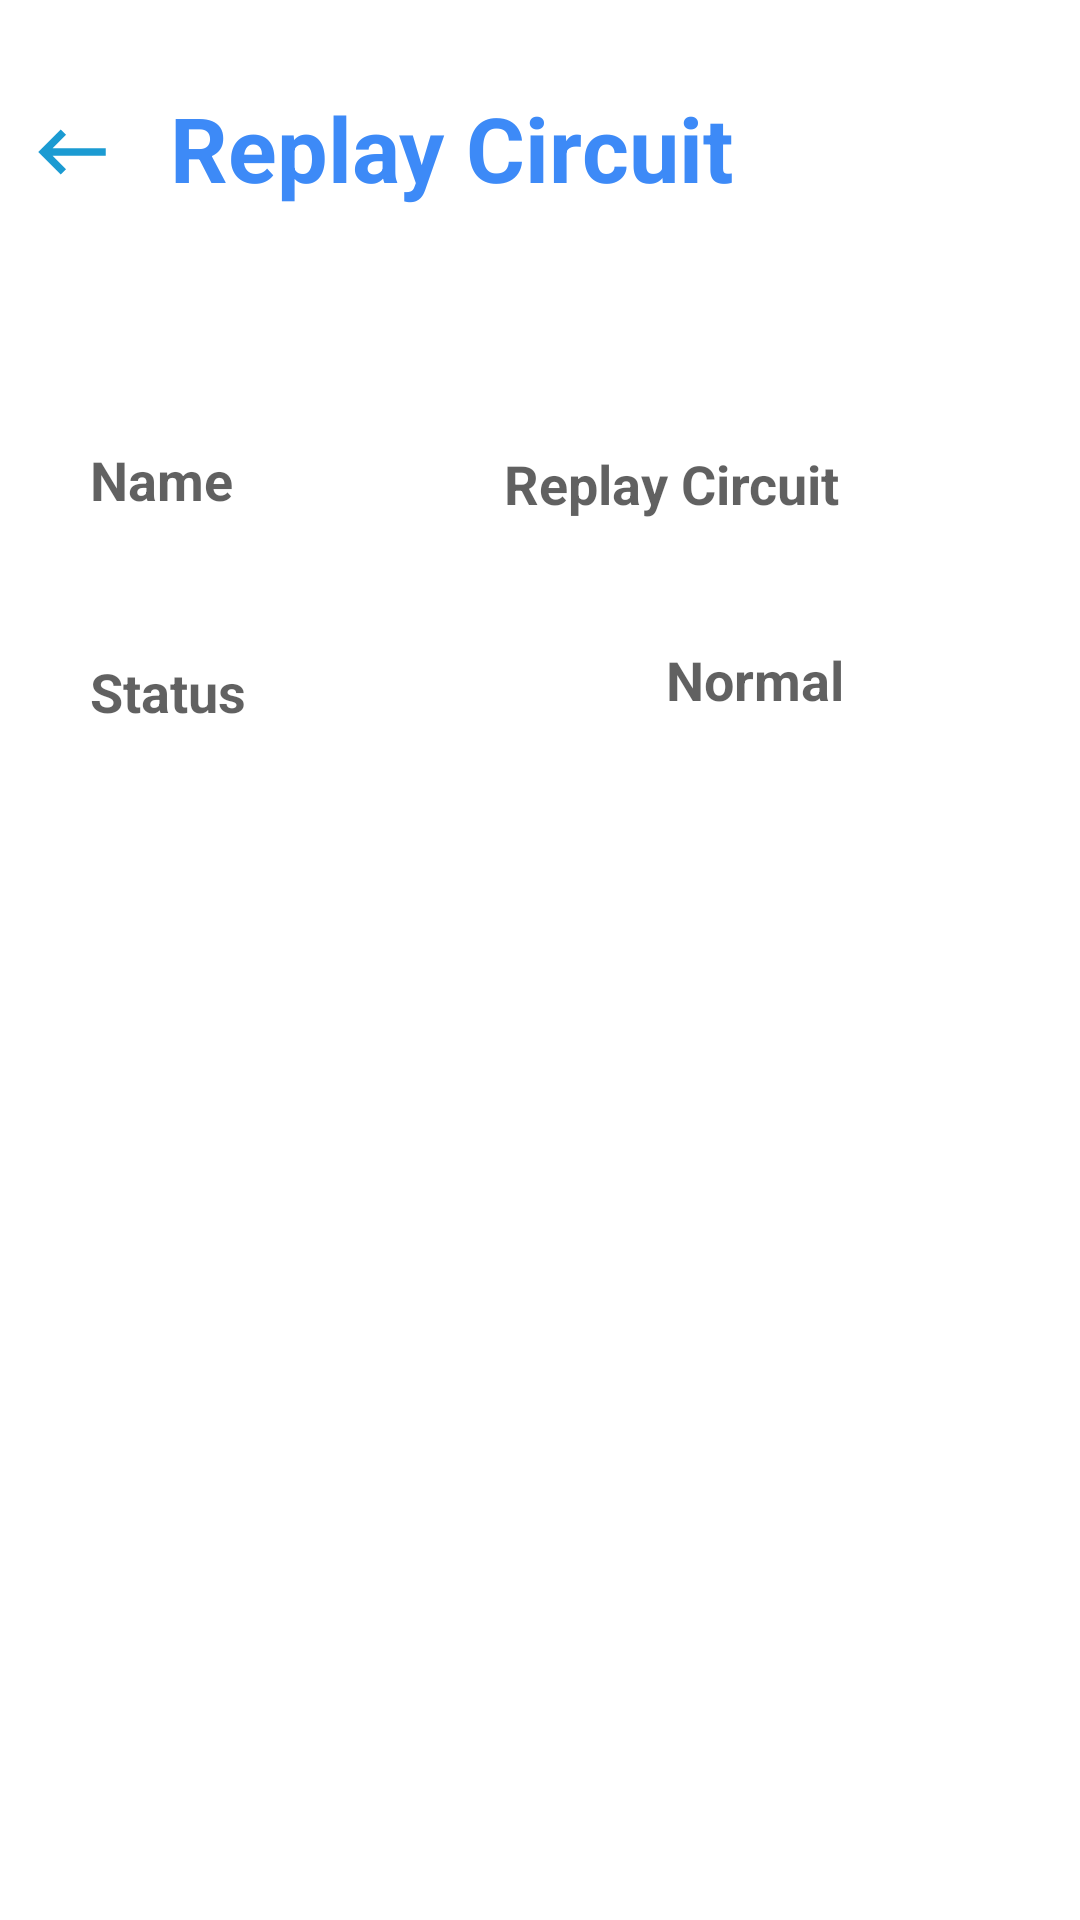

Icons on this 1080x1920 Android screen, each with its box as bbox=[x1, y1, x2, y2]:
keyboard backspace: bbox=[38, 129, 106, 175]
